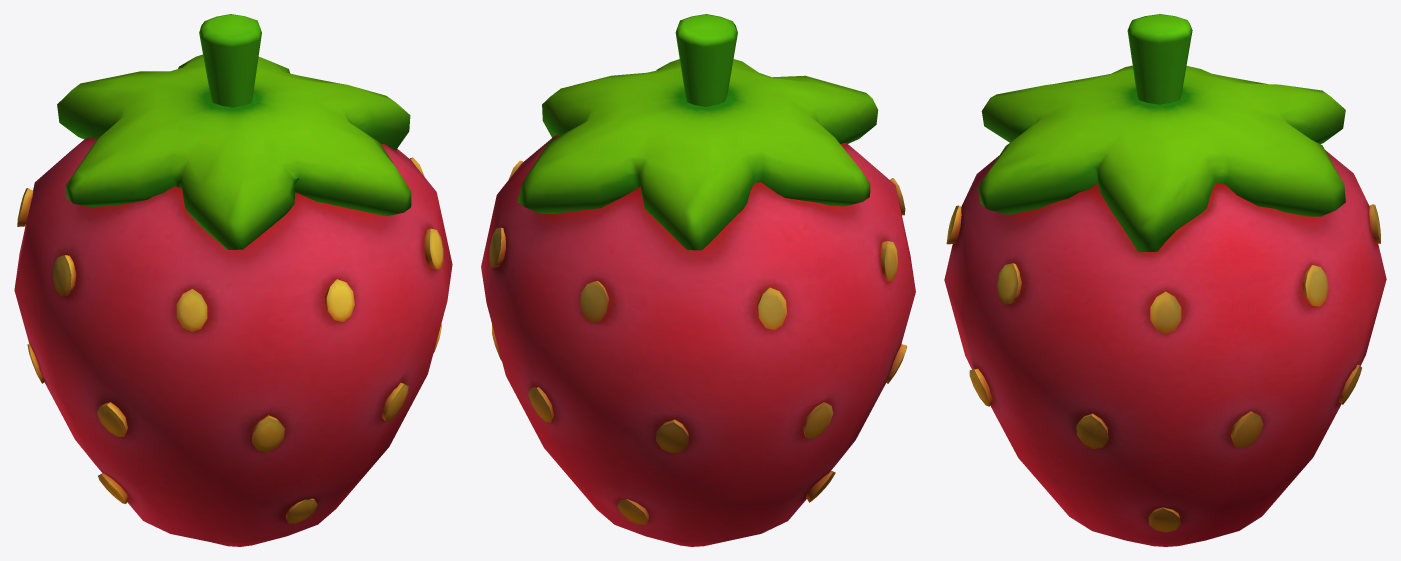
File: 0-strawberry.fbx
3 renders of one model, left to right at view 1: azimuth 30°, elevation 25°; view 2: azimuth 150°, elevation 25°; view 3: azimuth 270°, elevation 25°, orthographic.
Parts seen in each view (by area): view 1: 0-strawberry; view 2: 0-strawberry; view 3: 0-strawberry.
Boxes of the visible parts, x1=… form: 0-strawberry: x1=14, y1=14, x2=452, y2=546; 0-strawberry: x1=481, y1=14, x2=915, y2=546; 0-strawberry: x1=944, y1=14, x2=1386, y2=546.
Size of the model in its own units: 72.53 by 93.51 by 73.09.
